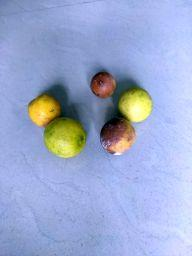lemon: (42, 116, 87, 159), (98, 116, 137, 156), (117, 86, 154, 124), (27, 93, 62, 129), (90, 70, 118, 99)
